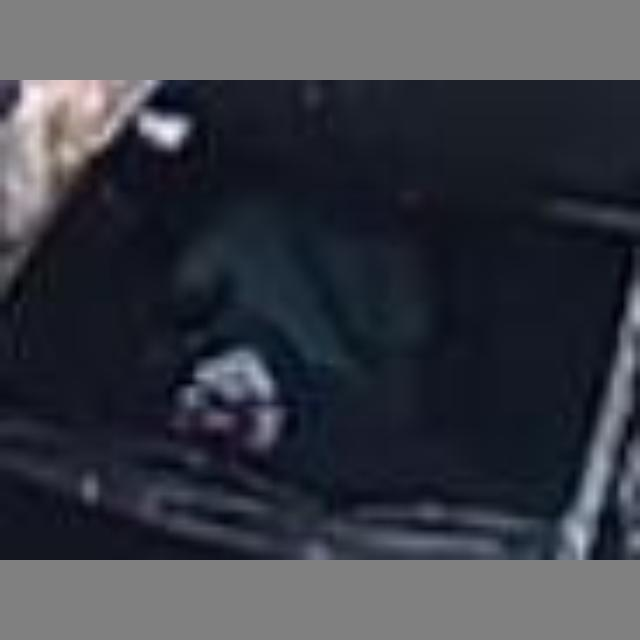pakai: (188, 177, 466, 435)
